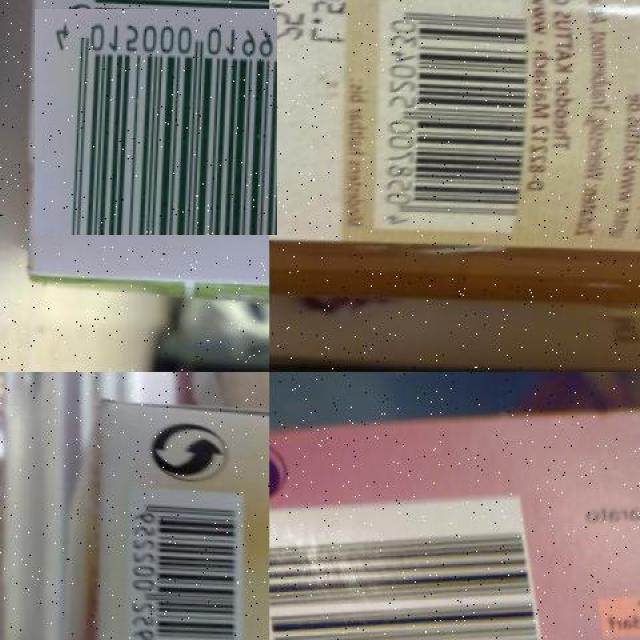Barcode: (39, 4, 273, 239), (270, 487, 591, 640), (374, 0, 534, 238), (120, 491, 250, 640)
